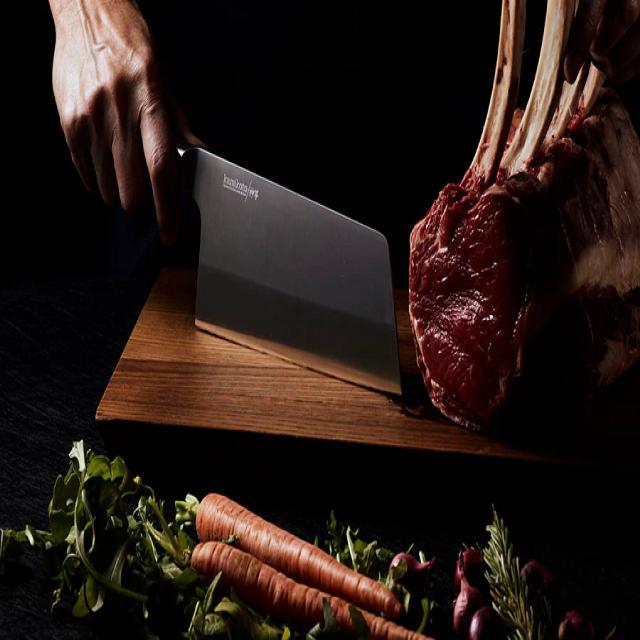cleaver: (48, 0, 408, 409)
